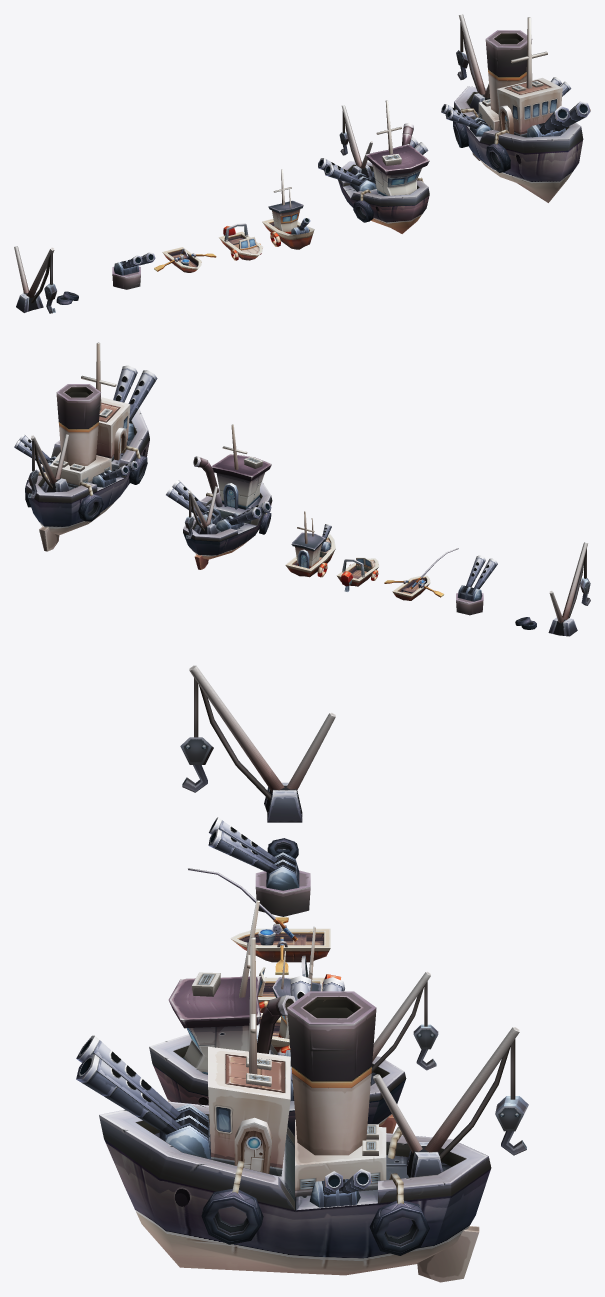
Rendered from modern_boats.fbx.
The picture shows the model from 3 angles, top to bottom: view 1: azimuth 30°, elevation 25°; view 2: azimuth 150°, elevation 25°; view 3: azimuth 270°, elevation 25°; orthographic projection. The views are drawn at different scales.
Visible parts, largest first — view 1: modern_boat_05, modern_boat_04, modern_boat_03, crane, modern_boat_02, cannon, modern_boat_01; view 2: modern_boat_05, modern_boat_04, modern_boat_03, crane, cannon, modern_boat_02, modern_boat_01; view 3: modern_boat_05, modern_boat_04, crane, cannon, modern_boat_01, modern_boat_03, modern_boat_02.
Part boxes in pixels (box(x1,y1,x2,y2)): modern_boat_05: box(441, 14, 590, 202); modern_boat_04: box(318, 100, 429, 233); modern_boat_03: box(262, 169, 314, 249); crane: box(14, 246, 56, 313); modern_boat_02: box(219, 223, 263, 260); cannon: box(112, 252, 155, 289); modern_boat_01: box(154, 247, 216, 272); modern_boat_05: box(14, 342, 157, 551); modern_boat_04: box(166, 424, 272, 569); modern_boat_03: box(285, 511, 335, 577); crane: box(548, 542, 590, 636); cannon: box(456, 555, 497, 615); modern_boat_02: box(336, 557, 379, 591); modern_boat_01: box(384, 548, 458, 600); modern_boat_05: box(76, 937, 528, 1282); modern_boat_04: box(149, 900, 438, 1136); crane: box(180, 665, 335, 822); cannon: box(208, 817, 310, 916); modern_boat_01: box(188, 868, 330, 974); modern_boat_03: box(259, 927, 322, 1053); modern_boat_02: box(257, 955, 341, 1012).
Bounding box in the file's own units: 4599 × 1392 × 1667.
